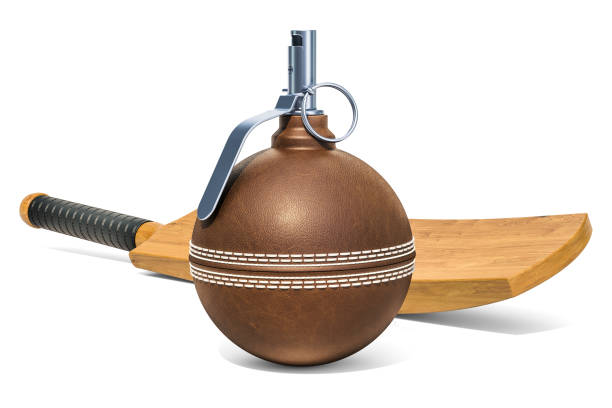e1: (191, 30, 417, 366)
